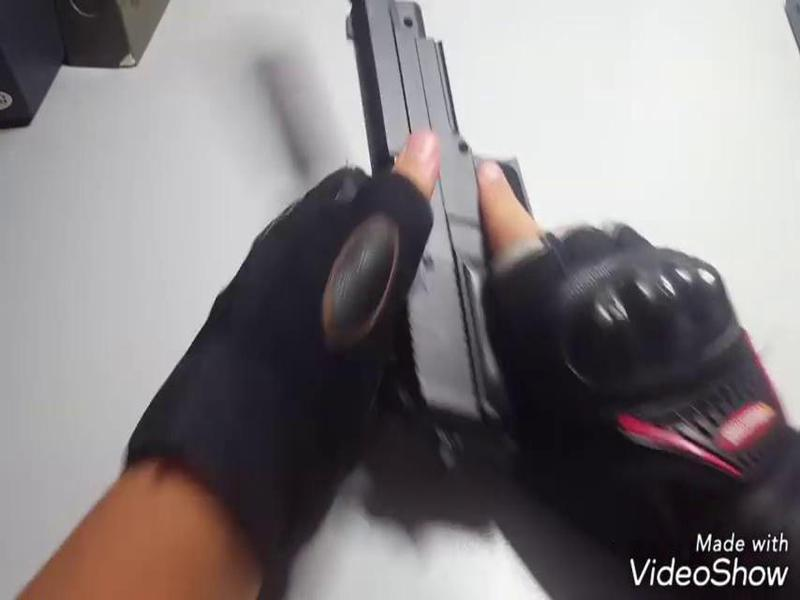Pistola: (329, 10, 582, 444)
